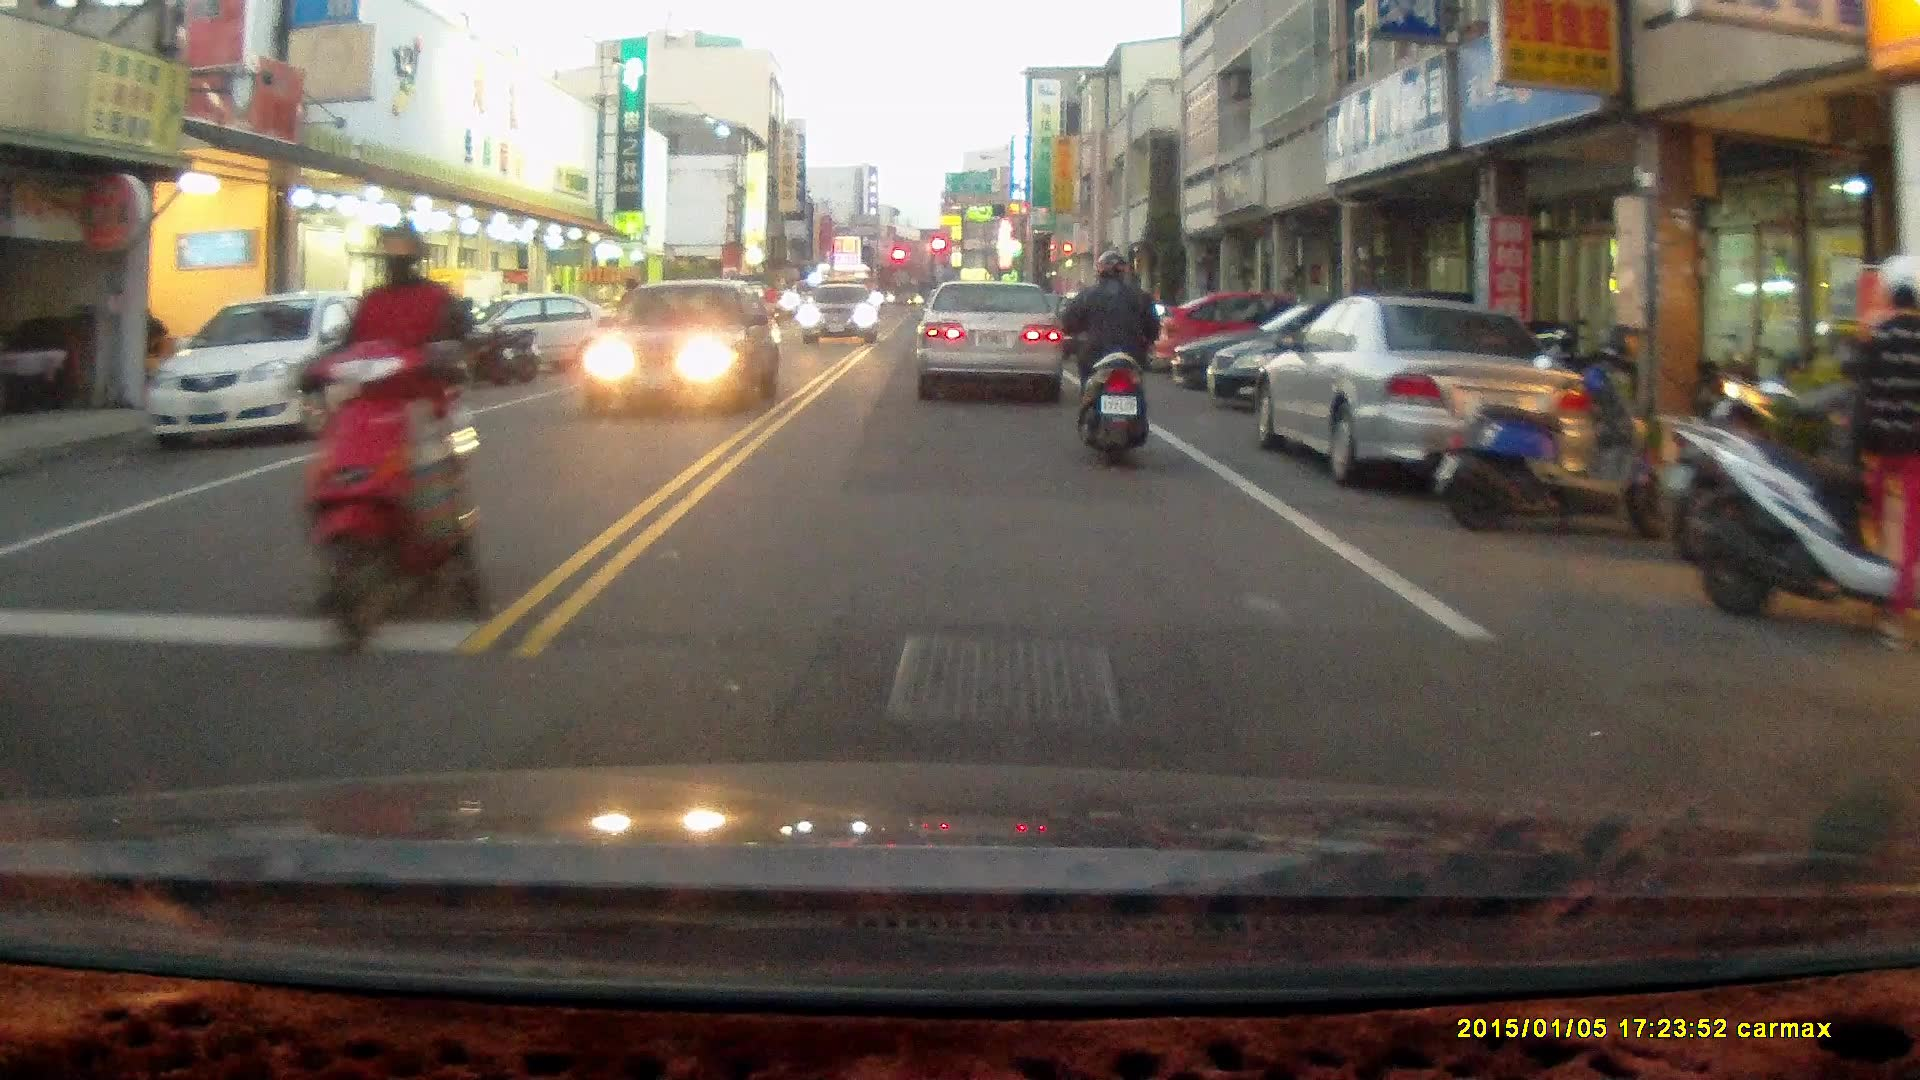pedestrian: (1849, 257, 1920, 651)
rider: (289, 211, 495, 658), (1053, 249, 1167, 470)
vehicle: (1279, 296, 1668, 480), (1246, 293, 1593, 488), (141, 288, 394, 450), (586, 277, 780, 415), (1173, 308, 1456, 400), (1152, 294, 1376, 382), (911, 282, 1067, 403), (453, 291, 608, 374), (801, 282, 881, 347)
